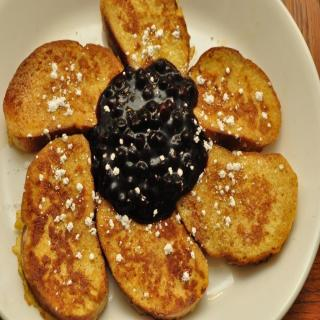Pancake: (184, 49, 284, 142)
